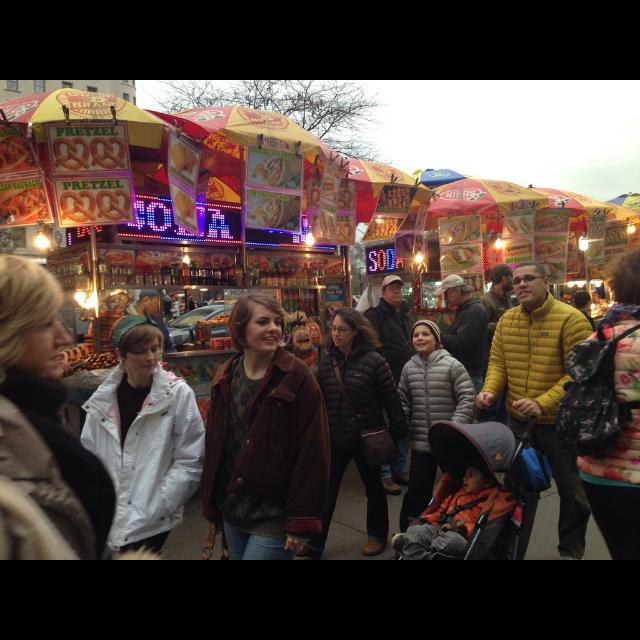head: (0, 254, 78, 384), (233, 294, 285, 354), (114, 321, 162, 377), (511, 261, 551, 307), (331, 308, 361, 348), (463, 462, 495, 494), (411, 322, 442, 354), (139, 287, 167, 317), (444, 276, 468, 308), (380, 276, 404, 304), (491, 264, 515, 292)
person: (392, 320, 480, 548), (357, 272, 423, 493), (476, 262, 528, 474), (426, 271, 494, 433), (120, 286, 172, 424)
